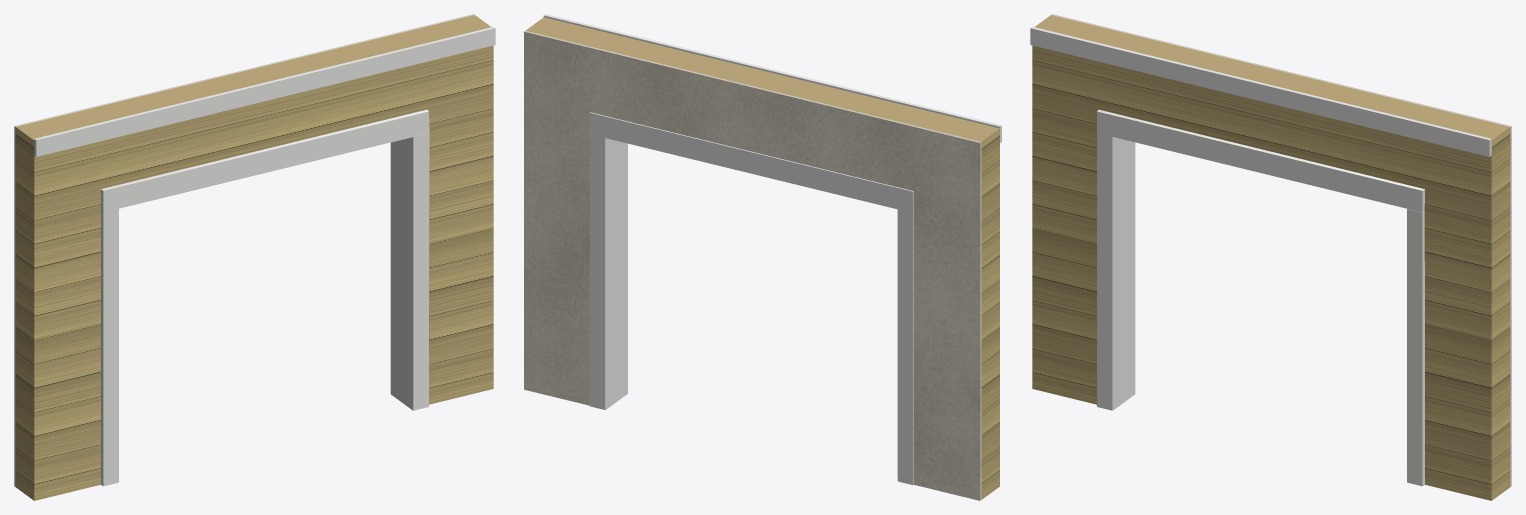
Rendered from wall_garage_front.glb.
3 renders of one model, left to right at view 1: azimuth 30°, elevation 25°; view 2: azimuth 150°, elevation 25°; view 3: azimuth 330°, elevation 25°, orthographic.
Visible parts, largest first — view 1: wall_garage_front_siding, wall_garage_front_trim, wall_garage_front_plaster; view 2: wall_garage_front_plaster, wall_garage_front_trim, wall_garage_front_siding; view 3: wall_garage_front_siding, wall_garage_front_trim, wall_garage_front_plaster.
Boxes of the visible parts, box(x1,y1,x2,y2) form: wall_garage_front_siding: box(15, 15, 493, 500); wall_garage_front_trim: box(34, 27, 495, 486); wall_garage_front_plaster: box(14, 14, 474, 486); wall_garage_front_plaster: box(524, 31, 981, 500); wall_garage_front_trim: box(543, 14, 1001, 485); wall_garage_front_siding: box(525, 17, 999, 499); wall_garage_front_siding: box(1032, 15, 1510, 500); wall_garage_front_trim: box(1030, 27, 1491, 486); wall_garage_front_plaster: box(1051, 14, 1511, 486).
Bounding box in the file's own units: 4 × 3.02 × 0.3478.
Materials: 3 (2 with a texture image).
